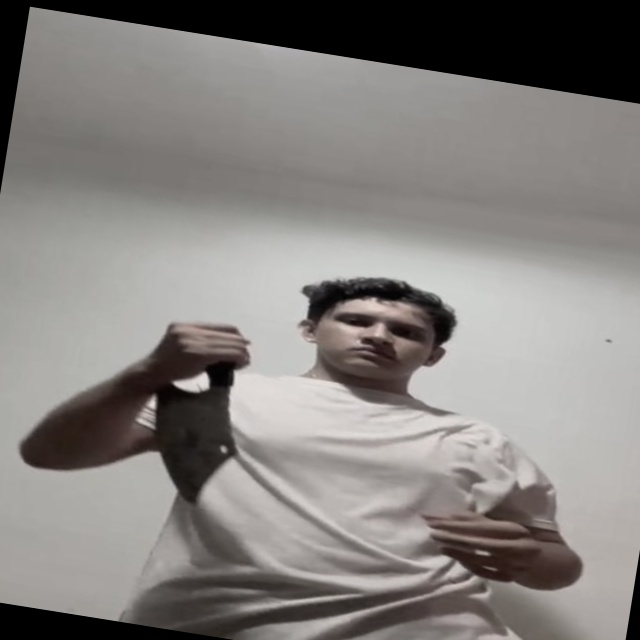Sharp-Object: (142, 374, 240, 502)
